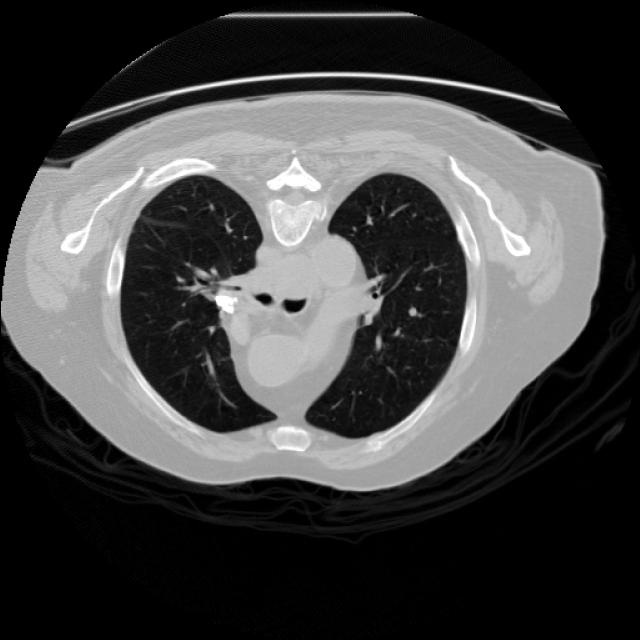nodule: (400, 302, 422, 324)
